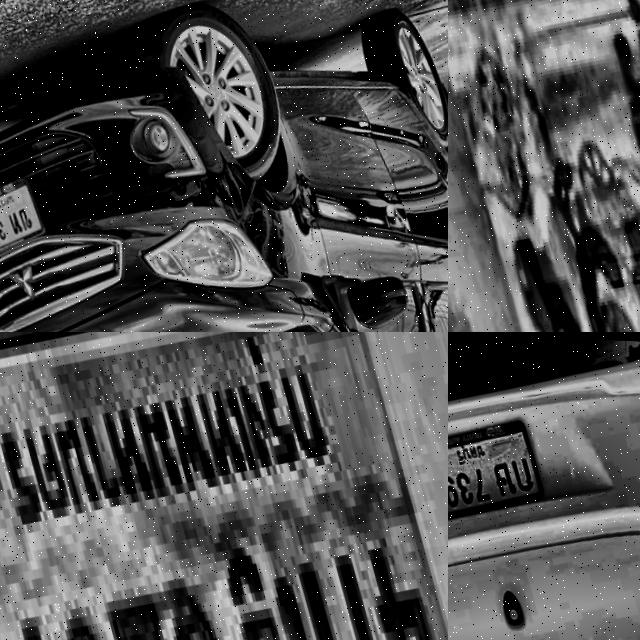license-plate: (0, 332, 448, 640), (448, 0, 640, 332), (448, 410, 545, 526), (0, 167, 46, 263)
